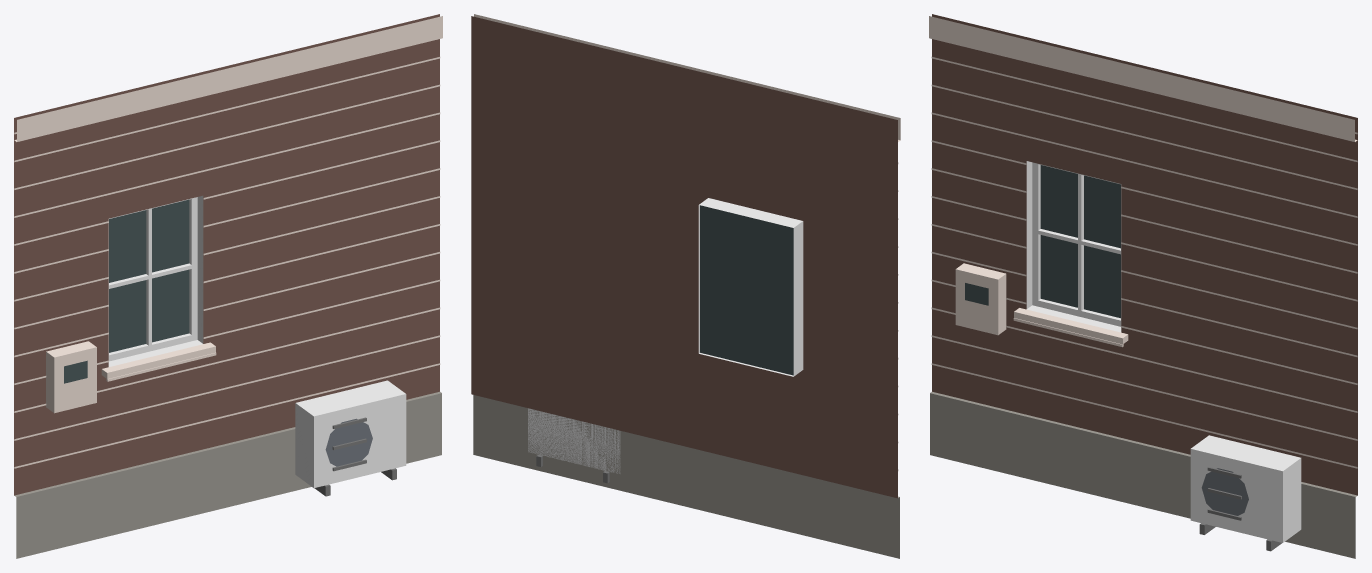
Rendered from base-w2_close.fbx.
3 views of the same model, side by side, from view 1: azimuth 30°, elevation 25°; view 2: azimuth 150°, elevation 25°; view 3: azimuth 330°, elevation 25° (orthographic).
Visible parts, largest first — view 1: a2000s3/600/base-w2_close; view 2: a2000s3/600/base-w2_close; view 3: a2000s3/600/base-w2_close.
Part boxes in pixels (bbox=[...]): a2000s3/600/base-w2_close: bbox=[14, 14, 442, 558]; a2000s3/600/base-w2_close: bbox=[471, 14, 900, 558]; a2000s3/600/base-w2_close: bbox=[929, 14, 1357, 558].
Bounding box in the file's own units: 3.6 × 3.55 × 0.46.
